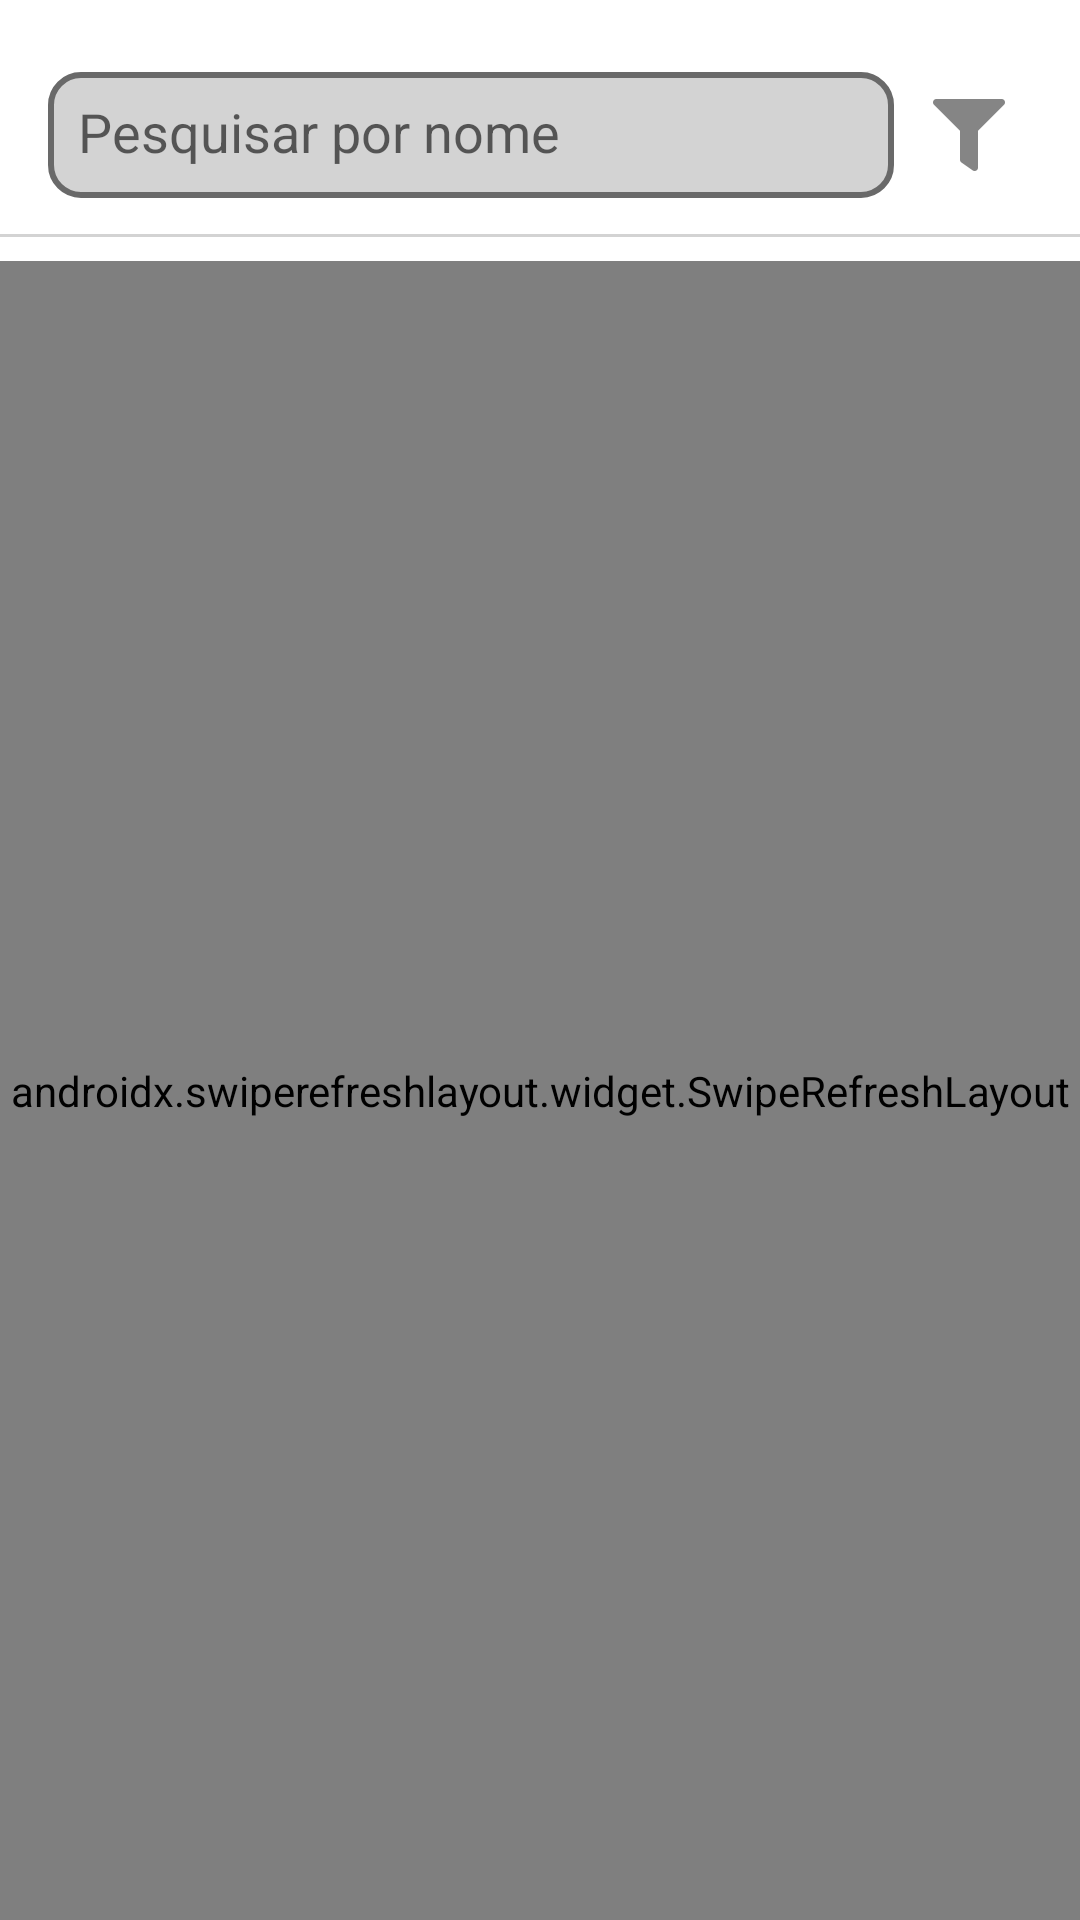

Icon click points for this 1080x1920 phone screenshot, format (x=x, y=y):
Filtrar o conteúdo: (x=969, y=135)
